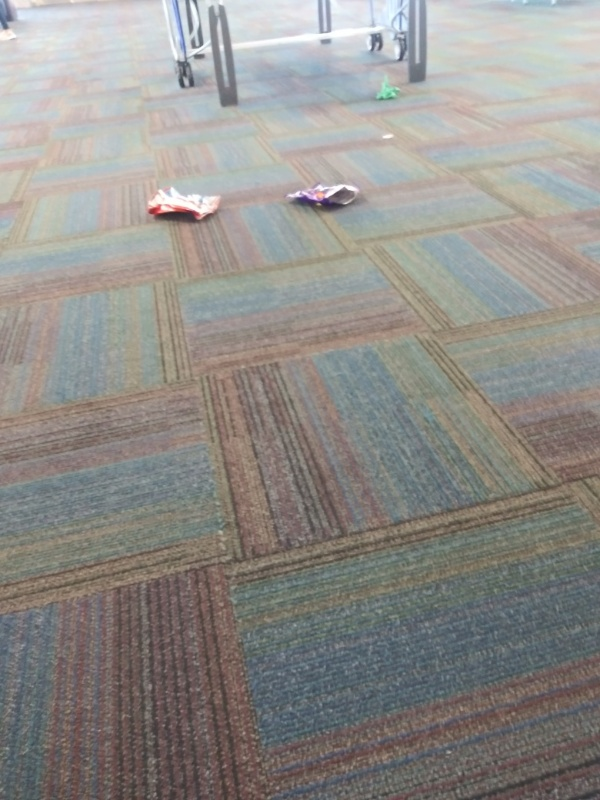bag: (137, 184, 228, 225), (279, 178, 368, 212)
